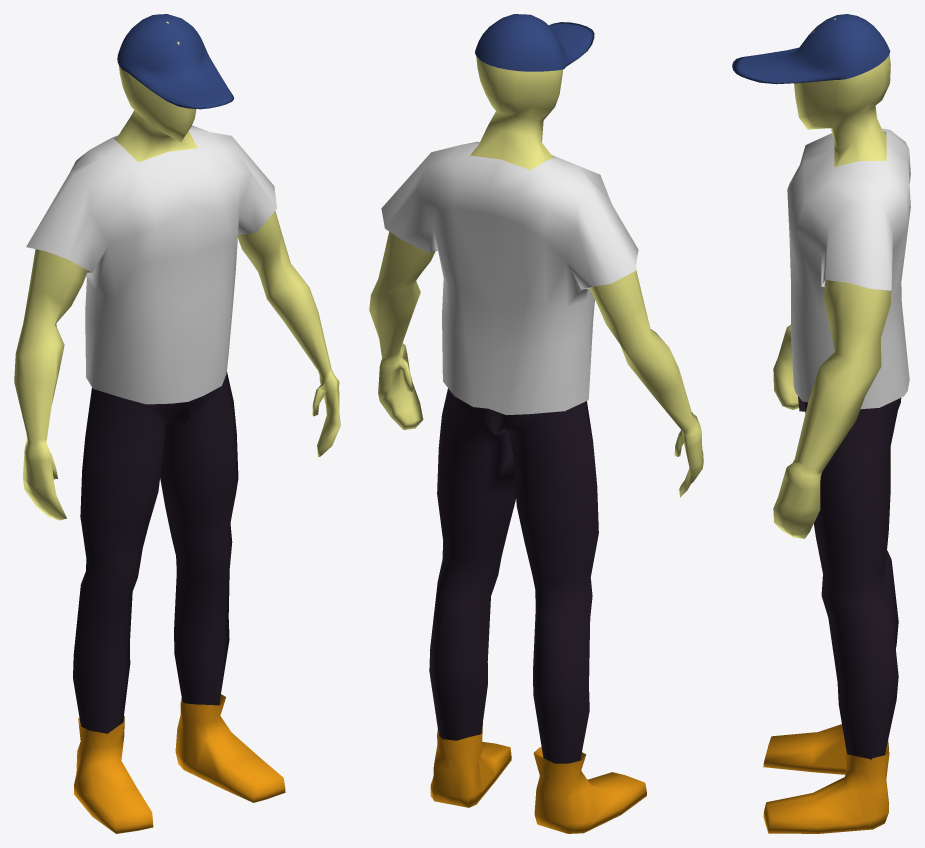
File: Lowpoly ppl.fbx
3 renders of one model, left to right at view 1: azimuth 30°, elevation 25°; view 2: azimuth 150°, elevation 25°; view 3: azimuth 270°, elevation 25°, orthographic. The views are drawn at different scales.
Visible parts, largest first — view 1: WhiteShirt, BluePants, Body, Boots, Hat; view 2: WhiteShirt, BluePants, Body, Boots, Hat; view 3: WhiteShirt, BluePants, Body, Boots, Hat.
Part boxes in pixels (<box>): WhiteShirt: <box>26,125,276,404</box>; BluePants: <box>73,372,238,733</box>; Body: <box>14,21,340,520</box>; Boots: <box>74,694,285,833</box>; Hat: <box>117,14,233,109</box>; WhiteShirt: <box>381,141,638,415</box>; BluePants: <box>429,388,598,763</box>; Body: <box>369,14,703,497</box>; Boots: <box>430,723,646,833</box>; Hat: <box>475,14,594,71</box>; WhiteShirt: <box>787,128,910,409</box>; BluePants: <box>798,396,901,760</box>; Body: <box>773,18,890,538</box>; Boots: <box>763,724,889,833</box>; Hat: <box>732,14,890,84</box>.
Bounding box in the file's own units: 76.19 × 181 × 37.84.
